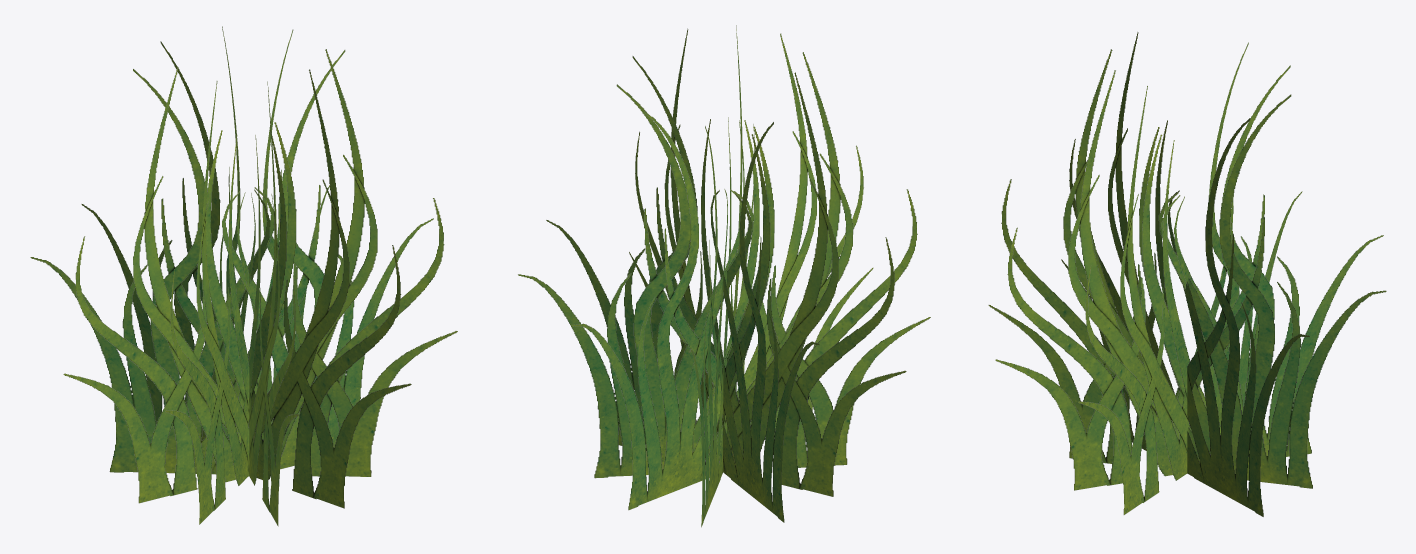
The model's file is Terrain_Grass_03.fbx.
3 views of the same model, side by side, from view 1: azimuth 30°, elevation 25°; view 2: azimuth 150°, elevation 25°; view 3: azimuth 270°, elevation 25° (orthographic). The views are drawn at different scales.
Visible parts, largest first — view 1: Grass_03; view 2: Grass_03; view 3: Grass_03.
Part boxes in pixels (x1,y1,x2,y2): Grass_03: [30, 26, 457, 526]; Grass_03: [518, 25, 930, 527]; Grass_03: [988, 32, 1386, 516].
Bounding box in the file's own units: 0.00959 × 0.0102 × 0.00921.
